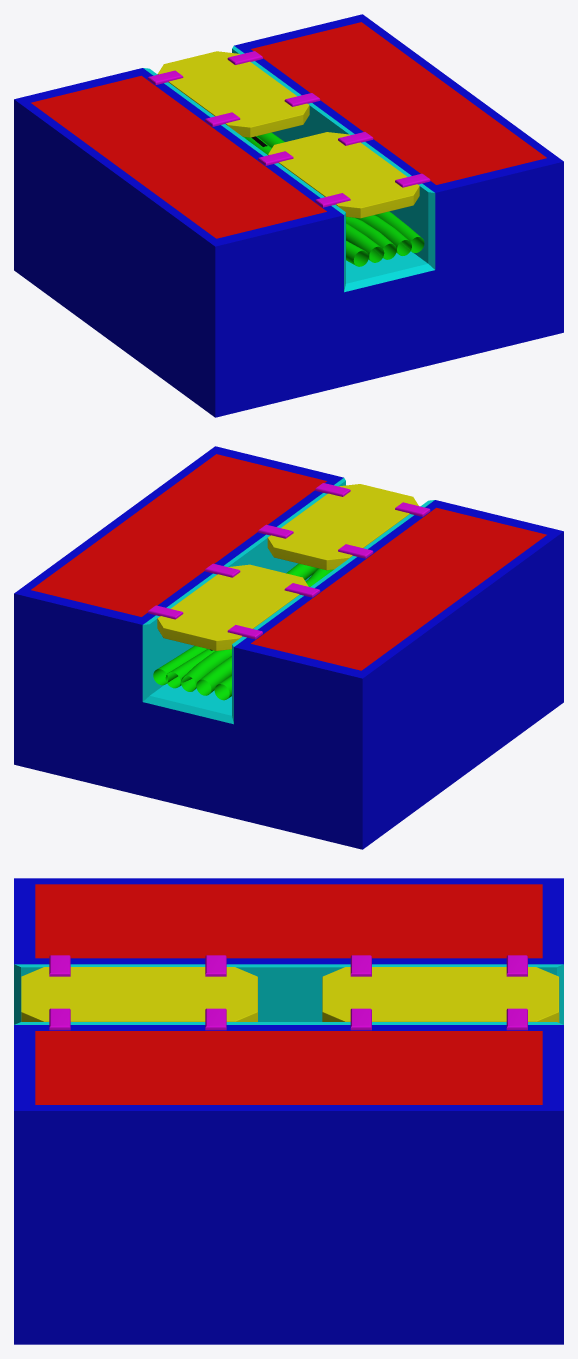
The model's file is Floor_Type_4_Tubes.fbx.
3 views of the same model, one above another, from view 1: azimuth 30°, elevation 25°; view 2: azimuth 150°, elevation 25°; view 3: azimuth 270°, elevation 25° (orthographic). The views are drawn at different scales.
Parts seen in each view (by area): view 1: Floor_Type_4_Tubes; view 2: Floor_Type_4_Tubes; view 3: Floor_Type_4_Tubes.
Boxes of the visible parts, <box> form: Floor_Type_4_Tubes: <box>14,14,563,417</box>; Floor_Type_4_Tubes: <box>14,446,563,849</box>; Floor_Type_4_Tubes: <box>14,878,563,1344</box>.
Bounding box in the file's own units: 383 × 183 × 382.
